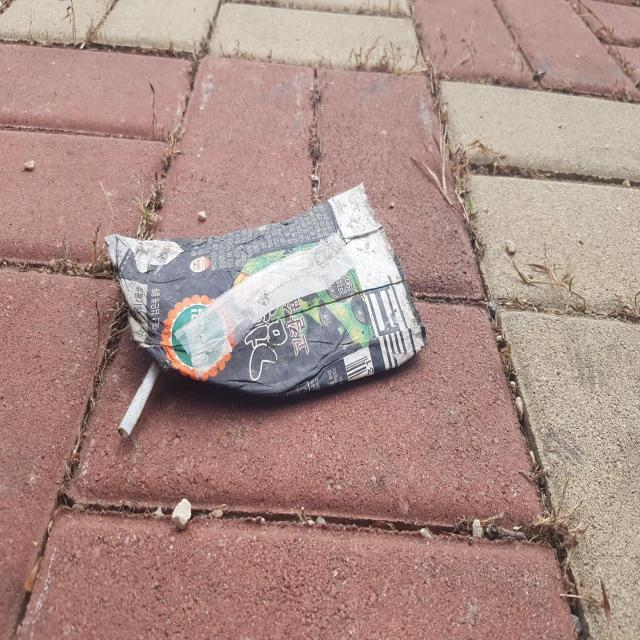paperpack: (105, 183, 427, 395)
